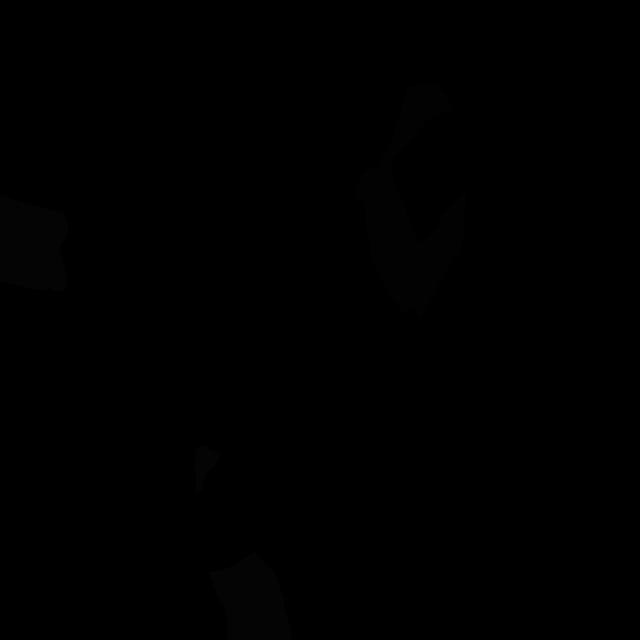cardboard: (356, 84, 467, 318)
soft_plastic: (209, 552, 292, 640), (0, 195, 68, 292), (194, 445, 220, 495)
